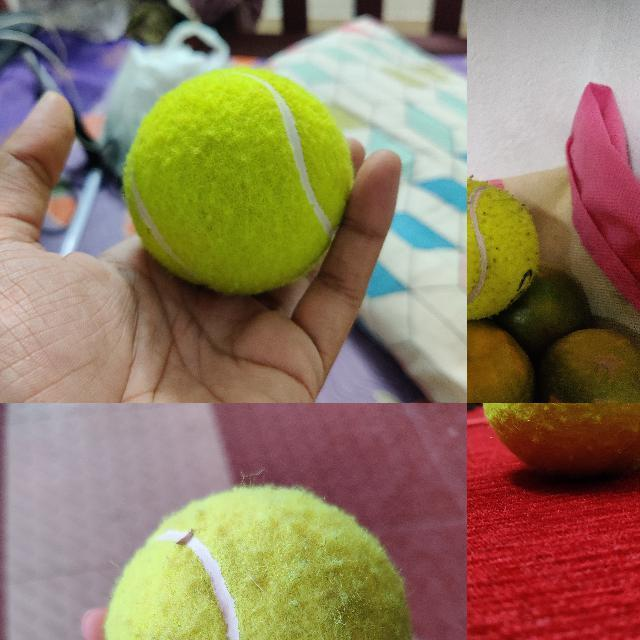tennis-ball: (122, 64, 354, 296), (101, 481, 417, 639), (474, 403, 639, 483), (467, 179, 540, 320)
